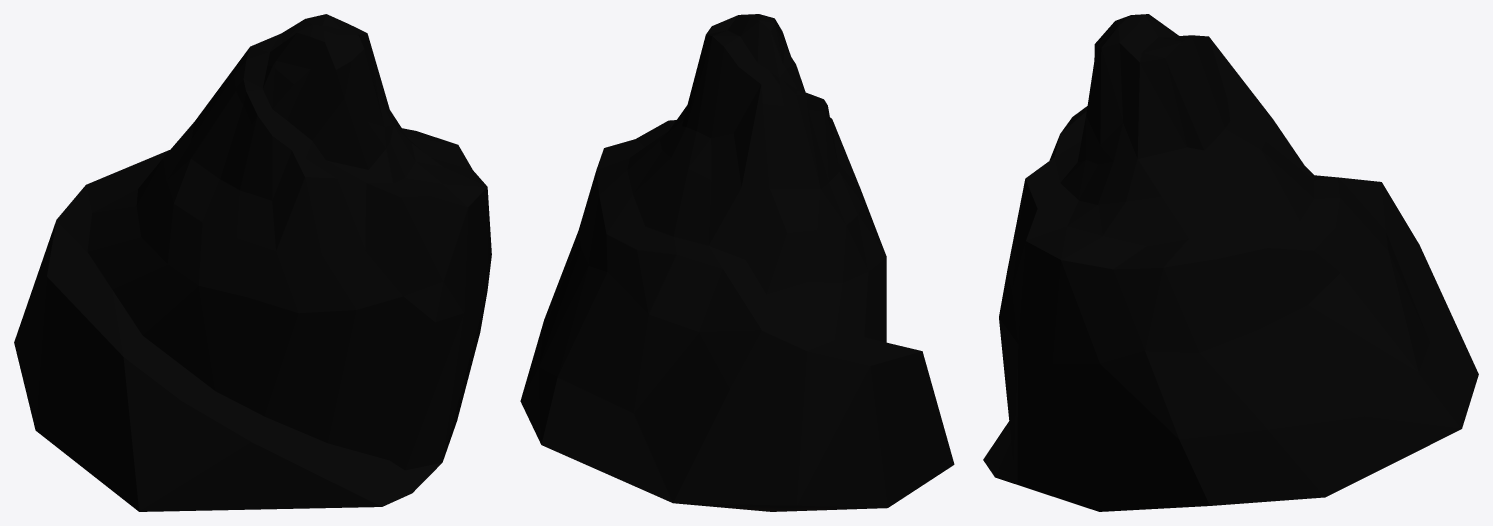
Rendered from mountain2.glb.
3 renders of one model, left to right at view 1: azimuth 30°, elevation 25°; view 2: azimuth 150°, elevation 25°; view 3: azimuth 270°, elevation 25°, orthographic. The views are drawn at different scales.
Visible parts, largest first — view 1: node_id137; view 2: node_id137; view 3: node_id137.
Part boxes in pixels (left/top/right/bottom): node_id137: left=14, top=14, right=491, bottom=511; node_id137: left=520, top=14, right=954, bottom=511; node_id137: left=983, top=14, right=1478, bottom=511.
Bounding box in the file's own units: 0.3144 × 0.3225 × 0.3186.
Materials: 1 (1 with a texture image).
